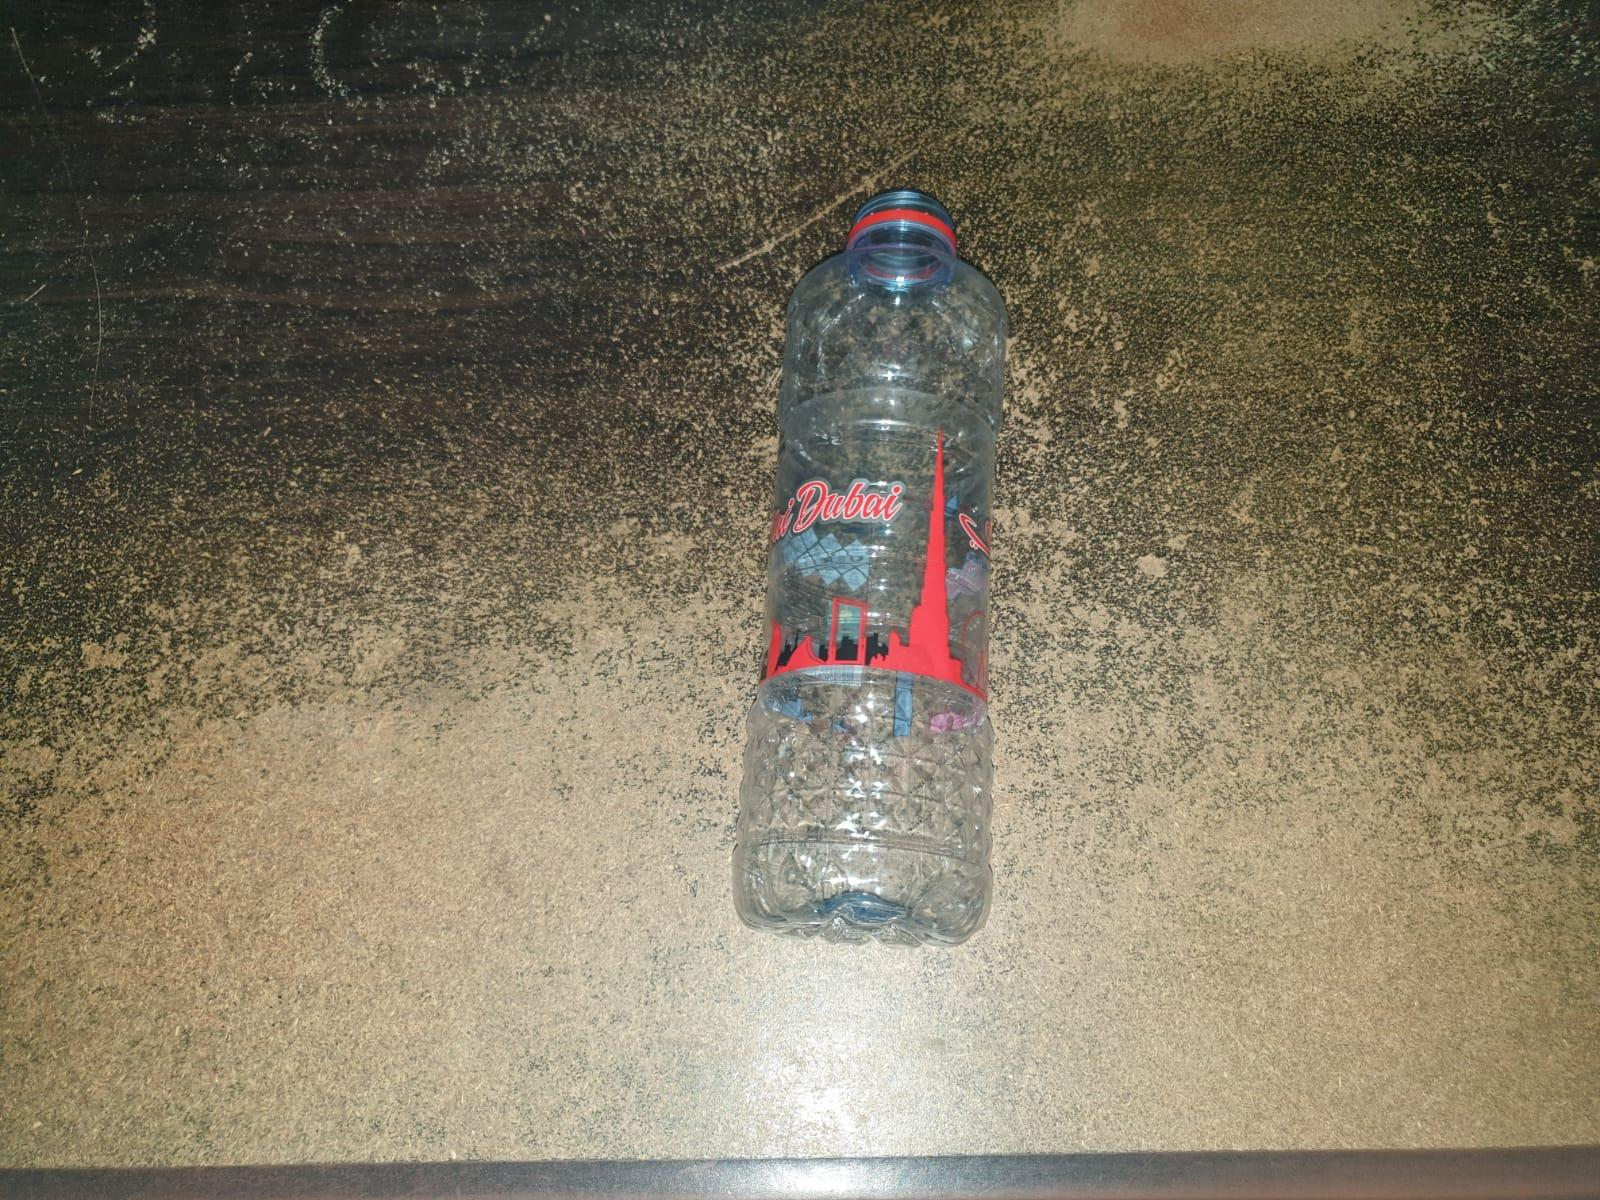bottle: (723, 182, 1023, 982)
